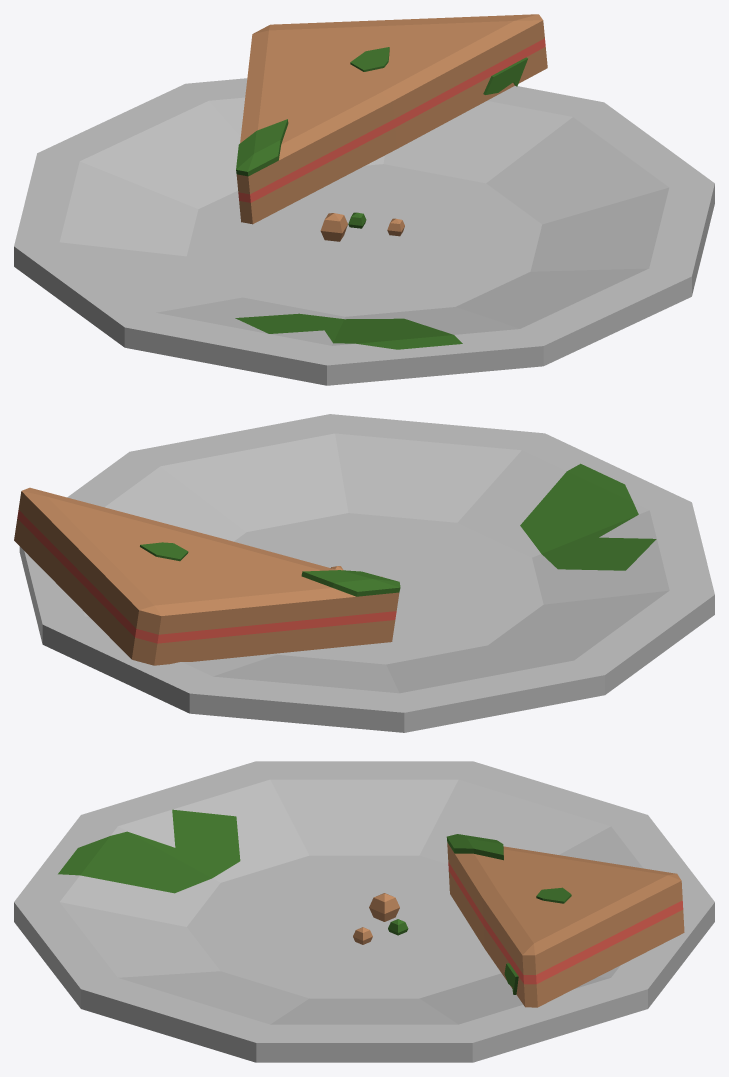
The model's file is Sammich.fbx.
The picture shows the model from 3 angles, top to bottom: view 1: azimuth 30°, elevation 25°; view 2: azimuth 150°, elevation 25°; view 3: azimuth 270°, elevation 25°; orthographic projection. The views are drawn at different scales.
Visible parts, largest first — view 1: Sammich; view 2: Sammich; view 3: Sammich.
Boxes of the visible parts, left/top/right/bottom form: Sammich: left=14, top=14, right=714, bottom=385; Sammich: left=14, top=414, right=714, bottom=732; Sammich: left=14, top=761, right=714, bottom=1062.
Size of the model in its own units: 144 by 31.21 by 151.
